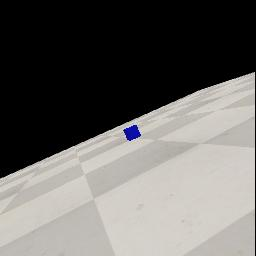box: (123, 125, 141, 141)
